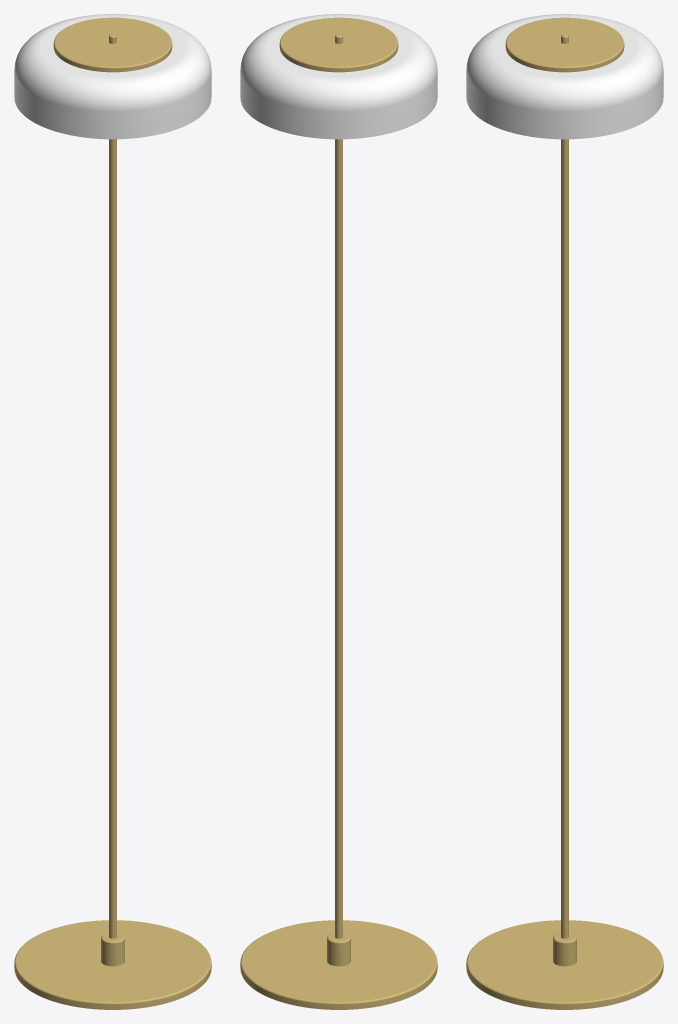
Rendered from floor lamp.fbx.
3 views of the same model, side by side, from view 1: azimuth 30°, elevation 25°; view 2: azimuth 150°, elevation 25°; view 3: azimuth 270°, elevation 25° (orthographic).
Visible parts, largest first — view 1: gold_stand, glass_diffuser; view 2: gold_stand, glass_diffuser; view 3: gold_stand, glass_diffuser.
Boxes of the visible parts, x1,y1,x2,y2 form: gold_stand: [14, 17, 211, 1009]; glass_diffuser: [14, 14, 211, 139]; gold_stand: [240, 17, 437, 1009]; glass_diffuser: [240, 14, 437, 139]; gold_stand: [466, 17, 663, 1009]; glass_diffuser: [466, 14, 663, 139].
Size of the model in its own units: 0.48 by 2.51 by 0.48.
3 materials, 1 textured.
